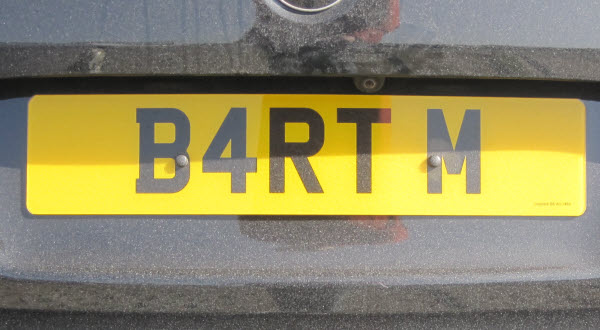license_plate: (24, 93, 587, 218)
